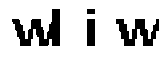i: (81, 4, 102, 53)
l: (51, 5, 69, 50)
w: (111, 17, 160, 49), (11, 15, 52, 49)
